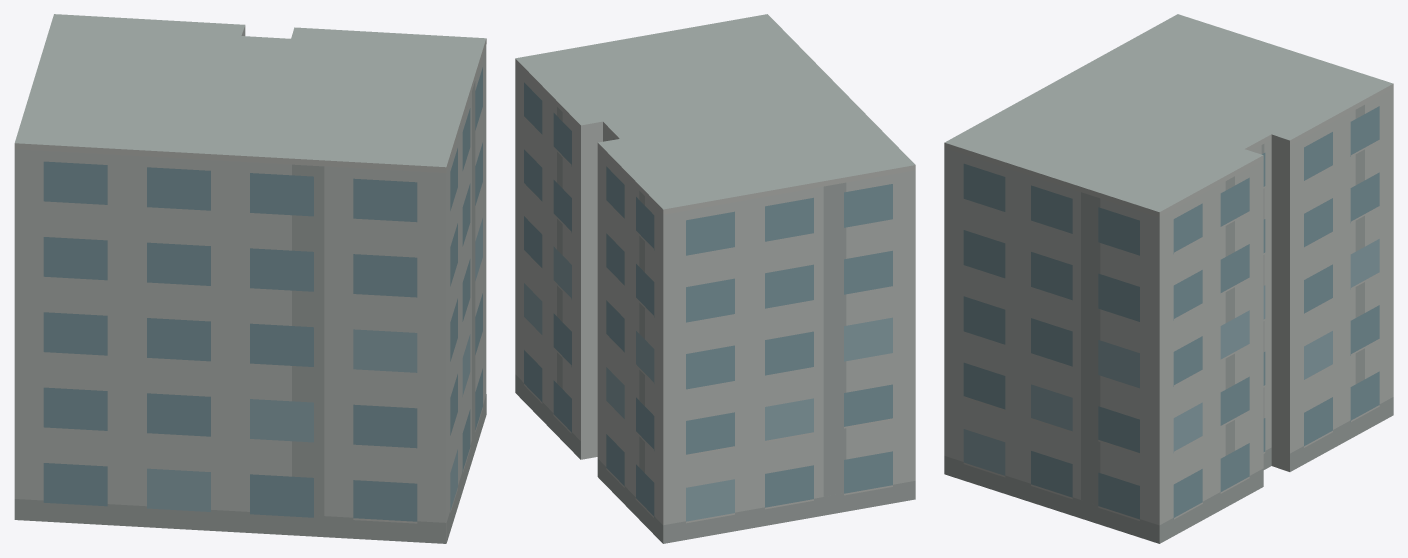
Rendered from survey-upis-32627424.glb.
The picture shows the model from 3 angles, left to right: view 1: azimuth 30°, elevation 25°; view 2: azimuth 150°, elevation 25°; view 3: azimuth 270°, elevation 25°; orthographic projection. The views are drawn at different scales.
Visible parts, largest first — view 1: survey-upis-32627424.tmp; view 2: survey-upis-32627424.tmp; view 3: survey-upis-32627424.tmp.
Part boxes in pixels (box(x1,y1,x2,y2)): survey-upis-32627424.tmp: box(14, 14, 486, 543); survey-upis-32627424.tmp: box(515, 14, 915, 543); survey-upis-32627424.tmp: box(944, 14, 1393, 543).
Bounding box in the file's own units: 19.56 × 15.25 × 18.73.
